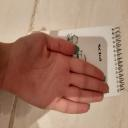OpenPalm: (5, 32, 110, 116)
